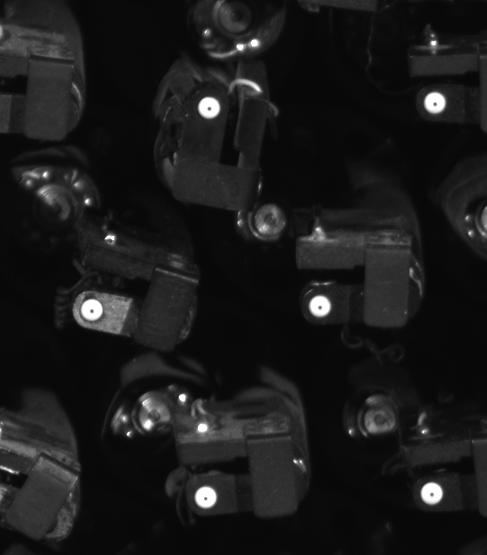fiber: (191, 89, 232, 123), (305, 288, 341, 322), (189, 480, 225, 514), (417, 478, 451, 510), (419, 87, 450, 120), (77, 297, 108, 324)
